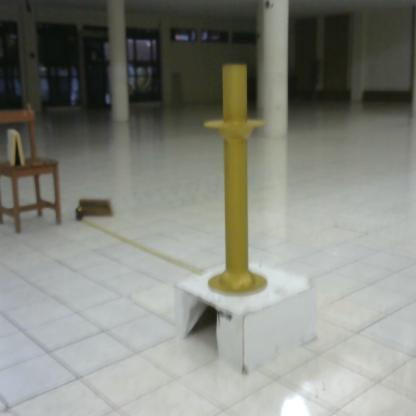pole: (199, 59, 273, 307)
